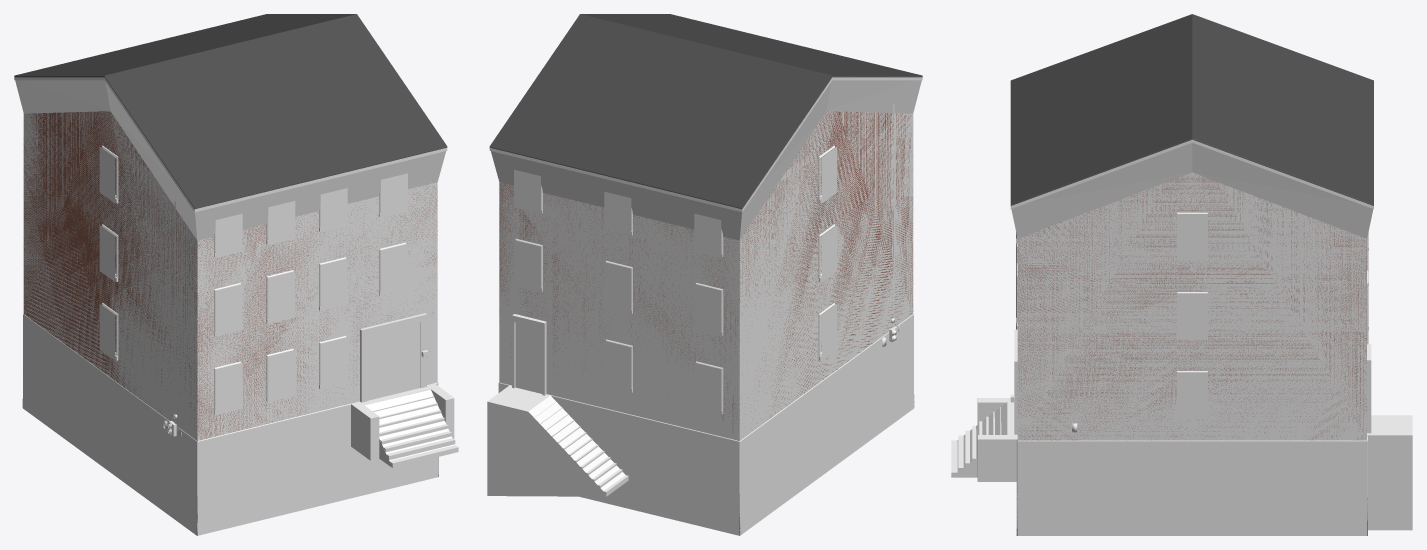
The model's file is eca_bld_townblock_a.dae.
3 views of the same model, side by side, from view 1: azimuth 30°, elevation 25°; view 2: azimuth 150°, elevation 25°; view 3: azimuth 270°, elevation 25° (orthographic).
Visible parts, largest first — view 1: eca_bld_townblock_a_a550, eca_bld_townblock_a_a100, Colmesh-1, eca_bld_townblock_a_a15; view 2: eca_bld_townblock_a_a550, eca_bld_townblock_a_a100, Colmesh-1, eca_bld_townblock_a_a15; view 3: eca_bld_townblock_a_a550, eca_bld_townblock_a_a100, Colmesh-1, eca_bld_townblock_a_a15.
Part boxes in pixels (left/top/right/bottom): eca_bld_townblock_a_a550: left=14, top=14, right=458, bottom=535; eca_bld_townblock_a_a100: left=14, top=77, right=458, bottom=532; Colmesh-1: left=15, top=80, right=455, bottom=467; eca_bld_townblock_a_a15: left=22, top=111, right=438, bottom=535; eca_bld_townblock_a_a550: left=487, top=14, right=922, bottom=535; eca_bld_townblock_a_a100: left=487, top=77, right=922, bottom=535; Colmesh-1: left=487, top=80, right=921, bottom=495; eca_bld_townblock_a_a15: left=499, top=111, right=914, bottom=535; eca_bld_townblock_a_a550: left=951, top=14, right=1412, bottom=535; eca_bld_townblock_a_a100: left=967, top=141, right=1411, bottom=532; Colmesh-1: left=951, top=143, right=1403, bottom=477; eca_bld_townblock_a_a15: left=1016, top=175, right=1367, bottom=535.
Size of the model in its own units: 8.4 by 13.21 by 12.65.
